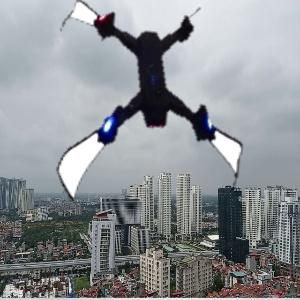drone: (51, 1, 261, 211)
